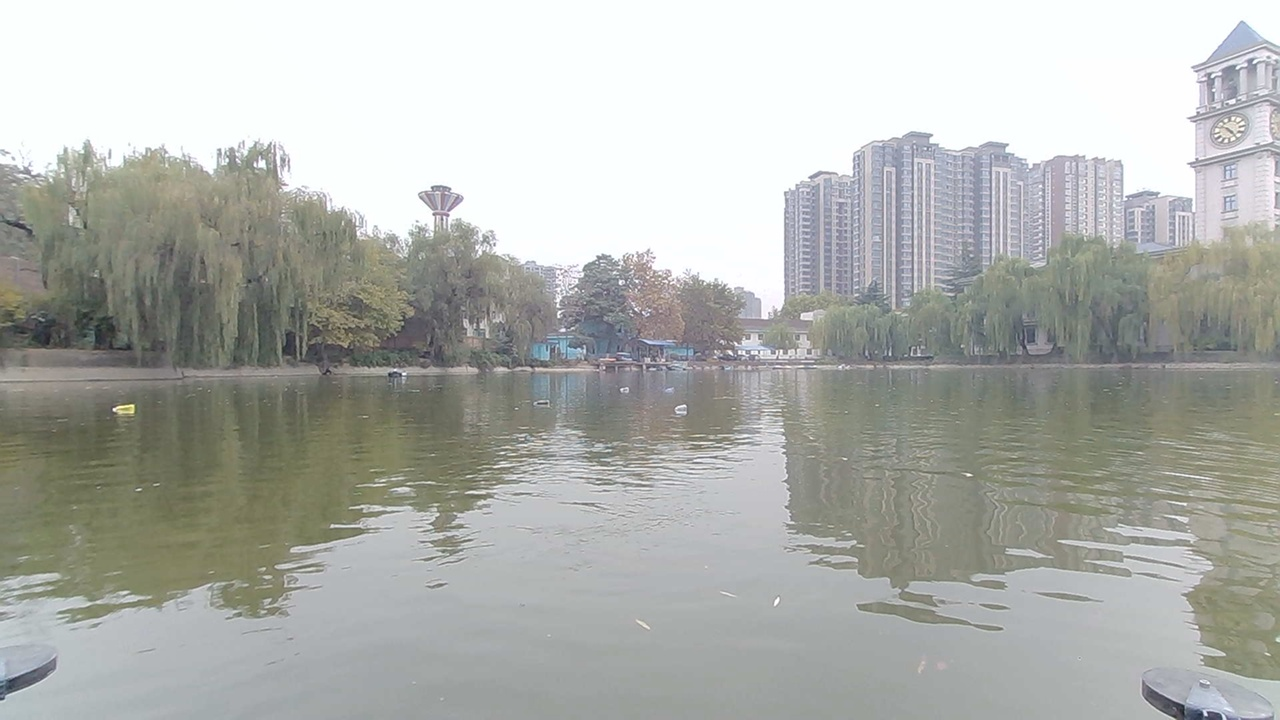bottle: (105, 399, 147, 423), (532, 388, 562, 410), (663, 395, 693, 416), (661, 374, 694, 391), (615, 377, 637, 396)
